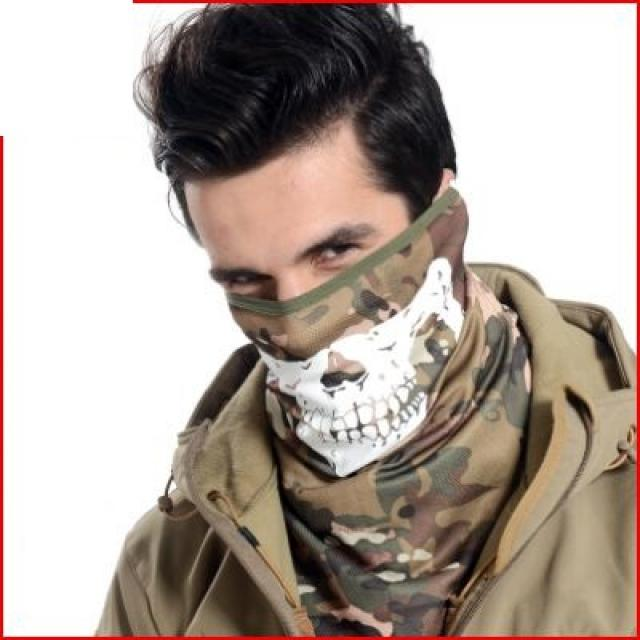mask: (190, 138, 422, 412)
